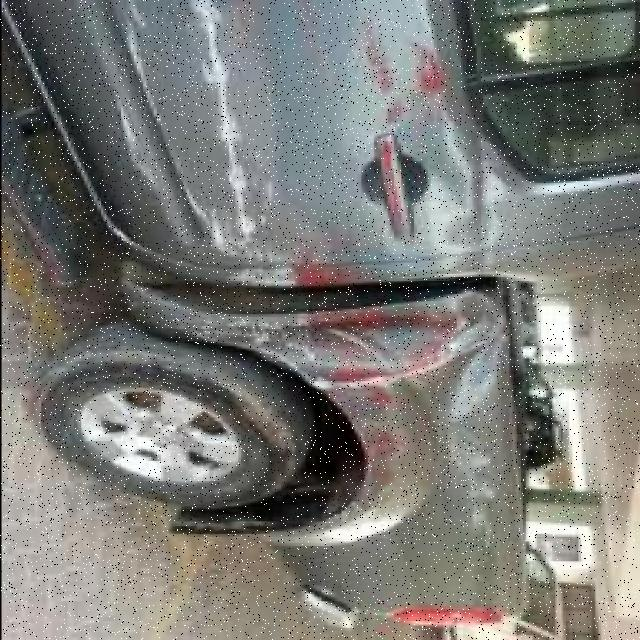damage: (191, 297, 477, 387), (378, 103, 502, 245)
